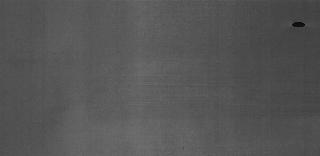punching hole: (290, 19, 308, 29)
